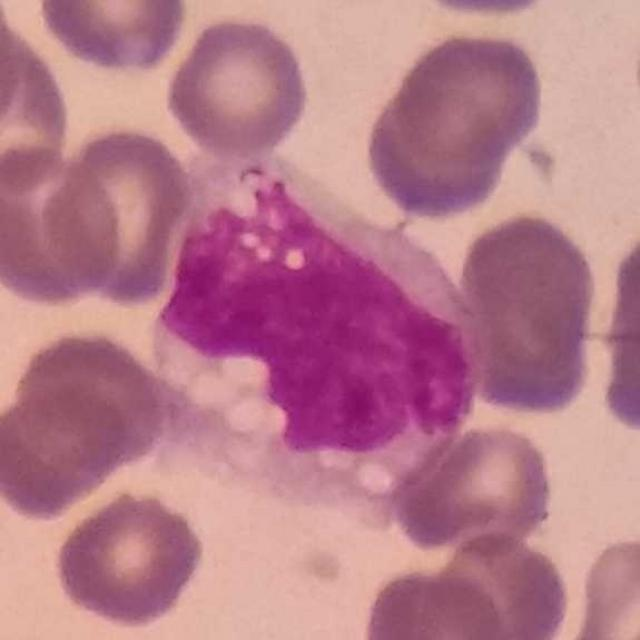Monocyte: (150, 154, 485, 518)
RBC: (451, 206, 602, 420), (45, 122, 198, 308), (380, 25, 548, 174), (359, 68, 518, 220), (7, 325, 171, 472), (390, 418, 561, 558), (50, 484, 209, 631), (162, 12, 313, 160), (0, 142, 125, 314), (0, 381, 139, 523), (423, 526, 573, 640), (0, 19, 75, 200), (357, 558, 511, 640), (34, 0, 192, 76), (591, 217, 640, 444), (560, 528, 640, 640), (400, 0, 573, 21), (0, 1, 24, 142)
